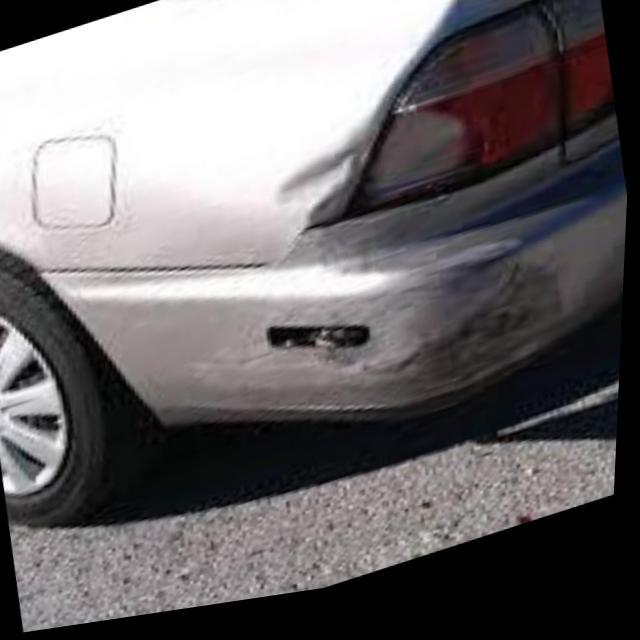dent: (193, 203, 577, 412), (266, 145, 378, 231)
